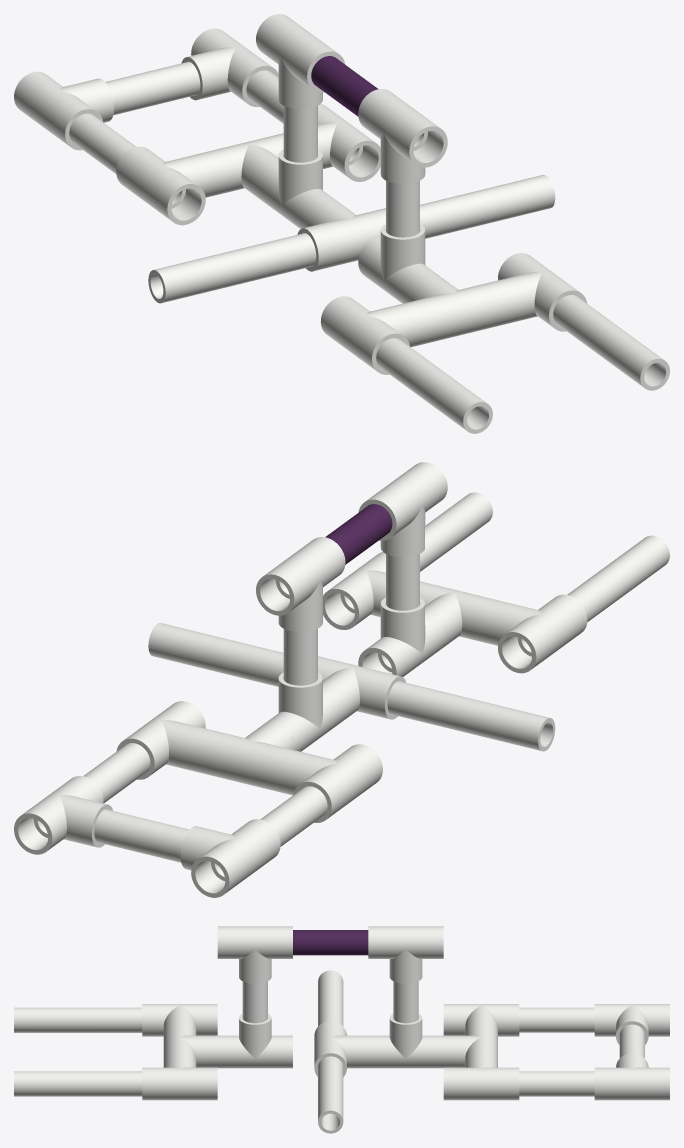
File: Vampire.obj
3 renders of one model, top to bottom at view 1: azimuth 30°, elevation 25°; view 2: azimuth 150°, elevation 25°; view 3: azimuth 270°, elevation 25°, orthographic. The views are drawn at different scales.
Visible parts, largest first — view 1: Solid1:18, Solid1:11, Solid1:5, Solid1:15, Solid1:19, Solid1:29, Solid1:28, Solid1:14, Solid1, Solid1:26, Solid1:4, Solid1:12 (+11 smaller); view 2: Solid1:18, Solid1:14, Solid1, Solid1:26, Solid1:7, Solid1:19, Solid1:4, Solid1:11, Solid1:5, Solid1:13, Solid1:6, Solid1:28 (+11 smaller); view 3: Solid1:29, Solid1:28, Solid1:14, Solid1:11, Solid1:10, Solid1:13, Solid1:6, Solid1:27, Solid1:4, Solid1, Solid1:5, Solid1:26 (+11 smaller).
Boxes of the visible parts, <box> form: Solid1:18: <box>148,233,316,303</box>; Solid1:11: <box>358,89,447,183</box>; Solid1:5: <box>116,146,216,225</box>; Solid1:15: <box>405,274,509,345</box>; Solid1:19: <box>420,175,555,238</box>; Solid1:29: <box>553,295,669,390</box>; Solid1:28: <box>376,338,492,433</box>; Solid1:14: <box>256,14,345,108</box>; Solid1: <box>14,71,113,150</box>; Solid1:26: <box>320,296,420,374</box>; Solid1:4: <box>181,28,278,106</box>; Solid1:12: <box>297,199,385,271</box>; Solid1:18: <box>387,681,555,751</box>; Solid1:14: <box>256,537,345,631</box>; Solid1: <box>180,819,280,897</box>; Solid1:26: <box>487,594,587,673</box>; Solid1:7: <box>194,722,297,793</box>; Solid1:19: <box>148,623,283,686</box>; Solid1:4: <box>14,776,112,854</box>; Solid1:11: <box>358,462,447,557</box>; Solid1:5: <box>282,744,382,822</box>; Solid1:13: <box>358,597,447,676</box>; Solid1:6: <box>116,701,208,779</box>; Solid1:28: <box>567,535,669,621</box>; Solid1:29: <box>14,1071,142,1096</box>; Solid1:28: <box>14,1007,142,1032</box>; Solid1:14: <box>368,926,443,983</box>; Solid1:11: <box>217,926,292,983</box>; Solid1:10: <box>368,1014,443,1068</box>; Solid1:13: <box>217,1013,292,1068</box>; Solid1:6: <box>443,1053,519,1100</box>; Solid1:27: <box>142,1053,217,1100</box>; Solid1:4: <box>594,1053,669,1100</box>; Solid1: <box>594,1004,669,1044</box>; Solid1:5: <box>443,1004,519,1036</box>; Solid1:26: <box>142,1004,217,1036</box>.
Size of the model in its own units: 11 by 5.08 by 21.75.
